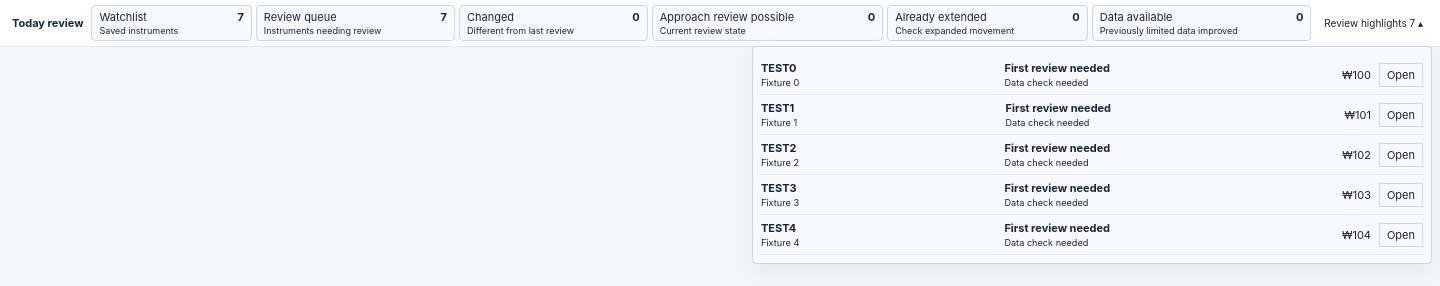
Test: TodayReviewDashboard › keeps the primary reason first and collapses highlights without removing summary cards
Expected: the text "First review needed" in the row of "TEST0" is shown, top-left (1004, 61), bottom-right (1110, 75)
Click the button "Review highlights 7 ▴": [1374, 23] box top-left (1319, 12), bottom-right (1428, 34)
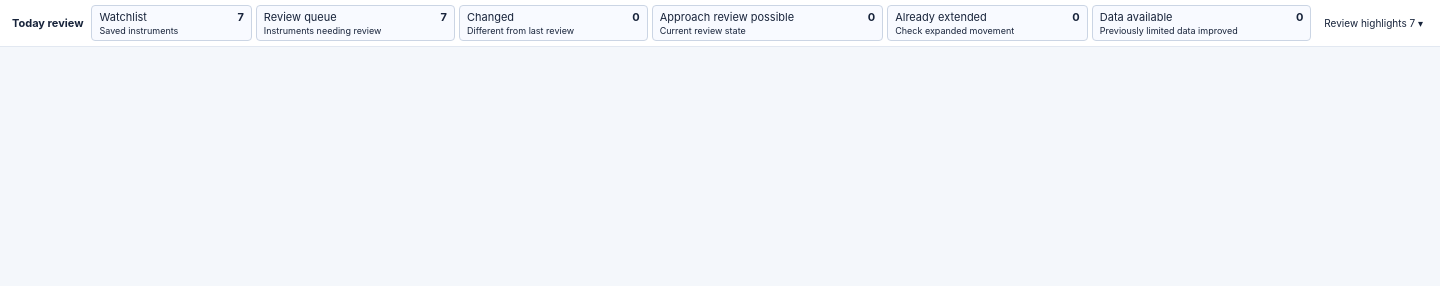
Expected: the button "Watchlist 7 Saved instruments" is shown, top-left (92, 5), bottom-right (252, 41)
Result: the list item "TEST0 Fixture 0 First review needed Data check needed ₩100 Open" is gone
Click the button "Review highlights 7 ▾": [1374, 23] box top-left (1319, 12), bottom-right (1428, 34)
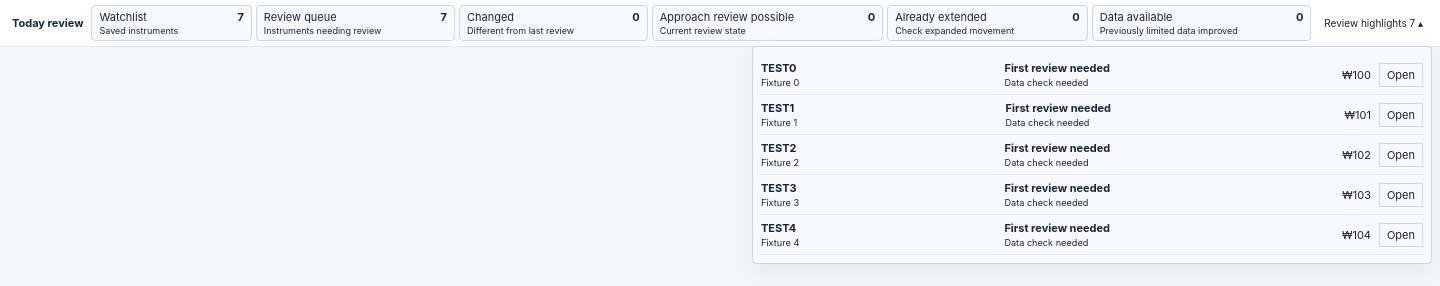
Result: the number of list items is 5 at top-left (761, 55), bottom-right (1423, 95); top-left (761, 95), bottom-right (1423, 135); top-left (761, 135), bottom-right (1423, 175); top-left (761, 175), bottom-right (1423, 215); top-left (761, 215), bottom-right (1423, 255)
